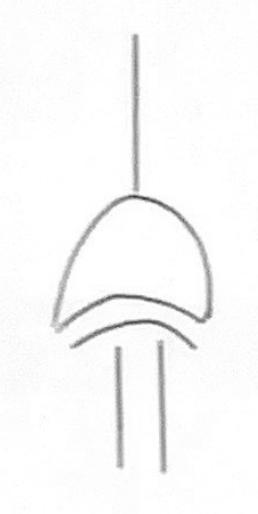XOR: (40, 166, 233, 383)
